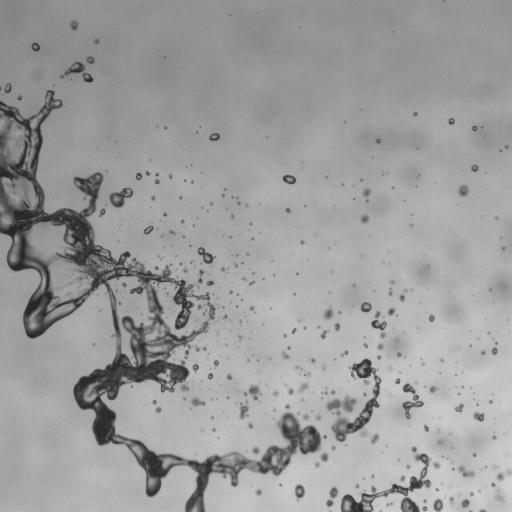droplet: (340, 447, 440, 511), (326, 358, 381, 442), (402, 383, 423, 419), (61, 61, 93, 82), (109, 187, 133, 207), (371, 311, 386, 338), (197, 247, 214, 263), (244, 384, 261, 400), (458, 466, 474, 477), (294, 484, 305, 500), (239, 401, 248, 419), (282, 174, 295, 184), (191, 397, 205, 406), (0, 83, 12, 93), (323, 307, 333, 319), (458, 185, 468, 196), (360, 302, 371, 312), (433, 499, 442, 511), (298, 382, 308, 392), (473, 412, 484, 421), (370, 433, 379, 443), (144, 225, 153, 234), (360, 215, 369, 223), (320, 330, 328, 339), (455, 403, 463, 412), (320, 452, 328, 461), (70, 20, 77, 30), (209, 133, 219, 140), (31, 43, 39, 51), (281, 351, 289, 359), (461, 499, 469, 507), (86, 56, 94, 63), (363, 188, 370, 196), (429, 386, 437, 393), (252, 446, 259, 454), (388, 308, 395, 315), (99, 208, 105, 216), (192, 364, 198, 372), (495, 495, 503, 501), (471, 165, 478, 171), (428, 314, 434, 321), (334, 323, 340, 330), (377, 343, 383, 350), (491, 347, 497, 354), (302, 414, 309, 420), (294, 365, 302, 370), (448, 118, 454, 124), (136, 173, 141, 180), (399, 294, 404, 301), (341, 351, 348, 356), (288, 387, 293, 394), (207, 280, 213, 285), (249, 306, 254, 312), (155, 407, 161, 412), (248, 422, 253, 428), (400, 475, 405, 481), (256, 489, 261, 495), (214, 360, 218, 367), (449, 497, 453, 504), (472, 125, 477, 130), (291, 328, 296, 333), (305, 371, 310, 376), (227, 374, 232, 379), (395, 378, 400, 383), (273, 391, 278, 396), (316, 415, 321, 420), (208, 373, 212, 379), (323, 389, 327, 395), (424, 425, 428, 431), (386, 502, 392, 506), (376, 138, 380, 143), (155, 178, 159, 183), (197, 305, 202, 309), (310, 358, 315, 362), (315, 462, 319, 467), (389, 289, 392, 295), (94, 39, 98, 43), (145, 171, 149, 175), (151, 196, 155, 200), (286, 208, 290, 212), (170, 230, 174, 234), (183, 268, 187, 272), (250, 280, 254, 284), (363, 343, 367, 347), (481, 350, 485, 354), (397, 352, 401, 356), (492, 435, 496, 439), (491, 482, 495, 486), (355, 484, 359, 488), (238, 335, 241, 340), (18, 96, 21, 100), (413, 112, 417, 115), (300, 241, 304, 244), (502, 246, 505, 250), (234, 263, 237, 267), (221, 267, 225, 270), (68, 281, 72, 284), (122, 283, 126, 286), (223, 315, 227, 318), (202, 347, 206, 350), (331, 390, 335, 393), (155, 266, 158, 269), (57, 287, 60, 290), (229, 290, 232, 293), (165, 292, 168, 295), (440, 359, 443, 362), (322, 366, 325, 369), (438, 440, 441, 443), (332, 446, 335, 449), (406, 465, 409, 468), (494, 465, 497, 468), (505, 145, 507, 148), (155, 173, 158, 175), (238, 201, 240, 204), (163, 213, 166, 215), (231, 215, 233, 218), (495, 216, 497, 219), (243, 277, 245, 280), (391, 280, 393, 283), (284, 334, 286, 337), (377, 356, 380, 358), (422, 362, 424, 365), (388, 367, 391, 369), (363, 393, 366, 395), (153, 401, 156, 403), (371, 475, 374, 477), (279, 483, 281, 486), (423, 500, 426, 502), (181, 220, 183, 222), (473, 454, 475, 456), (497, 490, 499, 492), (471, 493, 473, 495)
ligament: (0, 90, 326, 511), (326, 486, 337, 506), (496, 469, 511, 480), (197, 269, 204, 284), (479, 508, 487, 511), (469, 510, 472, 511)
